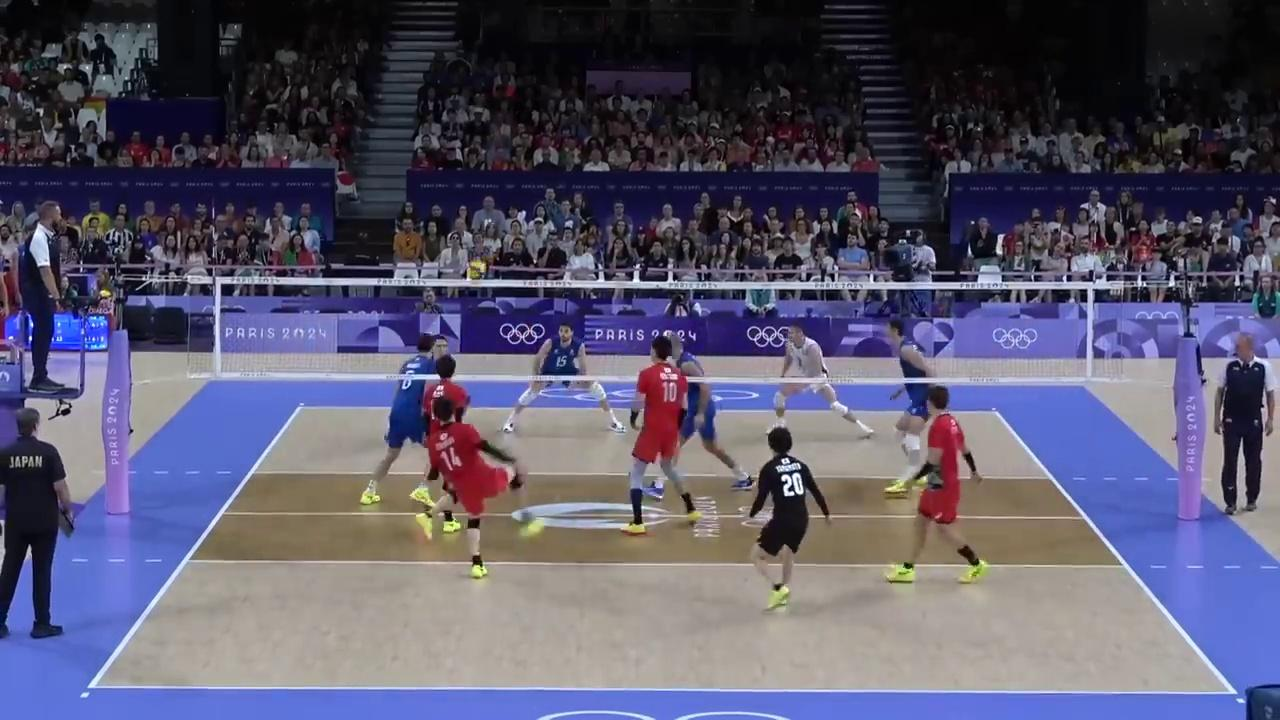ball: (468, 262, 486, 279)
